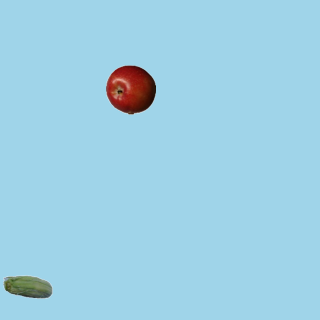Apple Braeburn: (105, 64, 155, 114)
Corn Husk: (2, 263, 52, 313)
